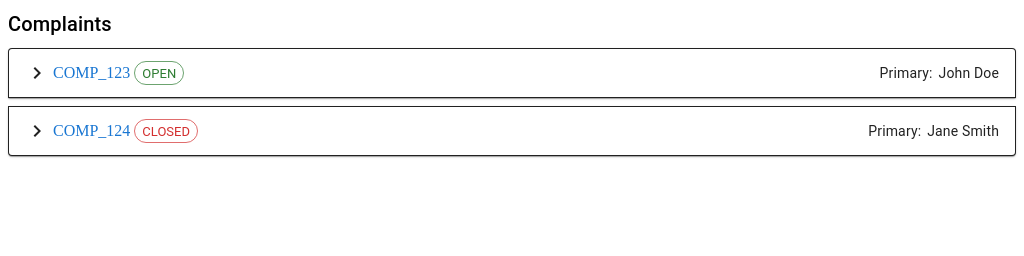
Test: CaseFileComplaintsTable › expands accordion when clicked
// Click on the first accordion to expand it
What coordinates should you click on to do the following:
click the button "COMP_123 OPEN Primary: John Doe"
I would click on:
 (159, 73)
Its box is x1=25 y1=61 x2=999 y2=85.
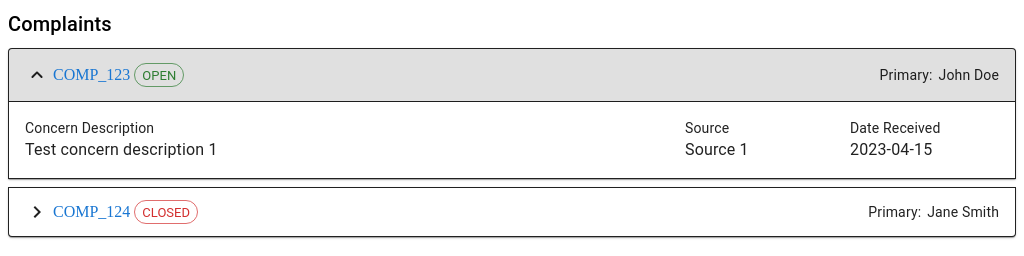
Check: the text "Concern Description" is shown, box x1=25 y1=120 x2=154 y2=136
Check: the text "Source" is shown, box x1=685 y1=120 x2=729 y2=136
Check: the text "Date Received" is shown, box x1=850 y1=120 x2=940 y2=136
